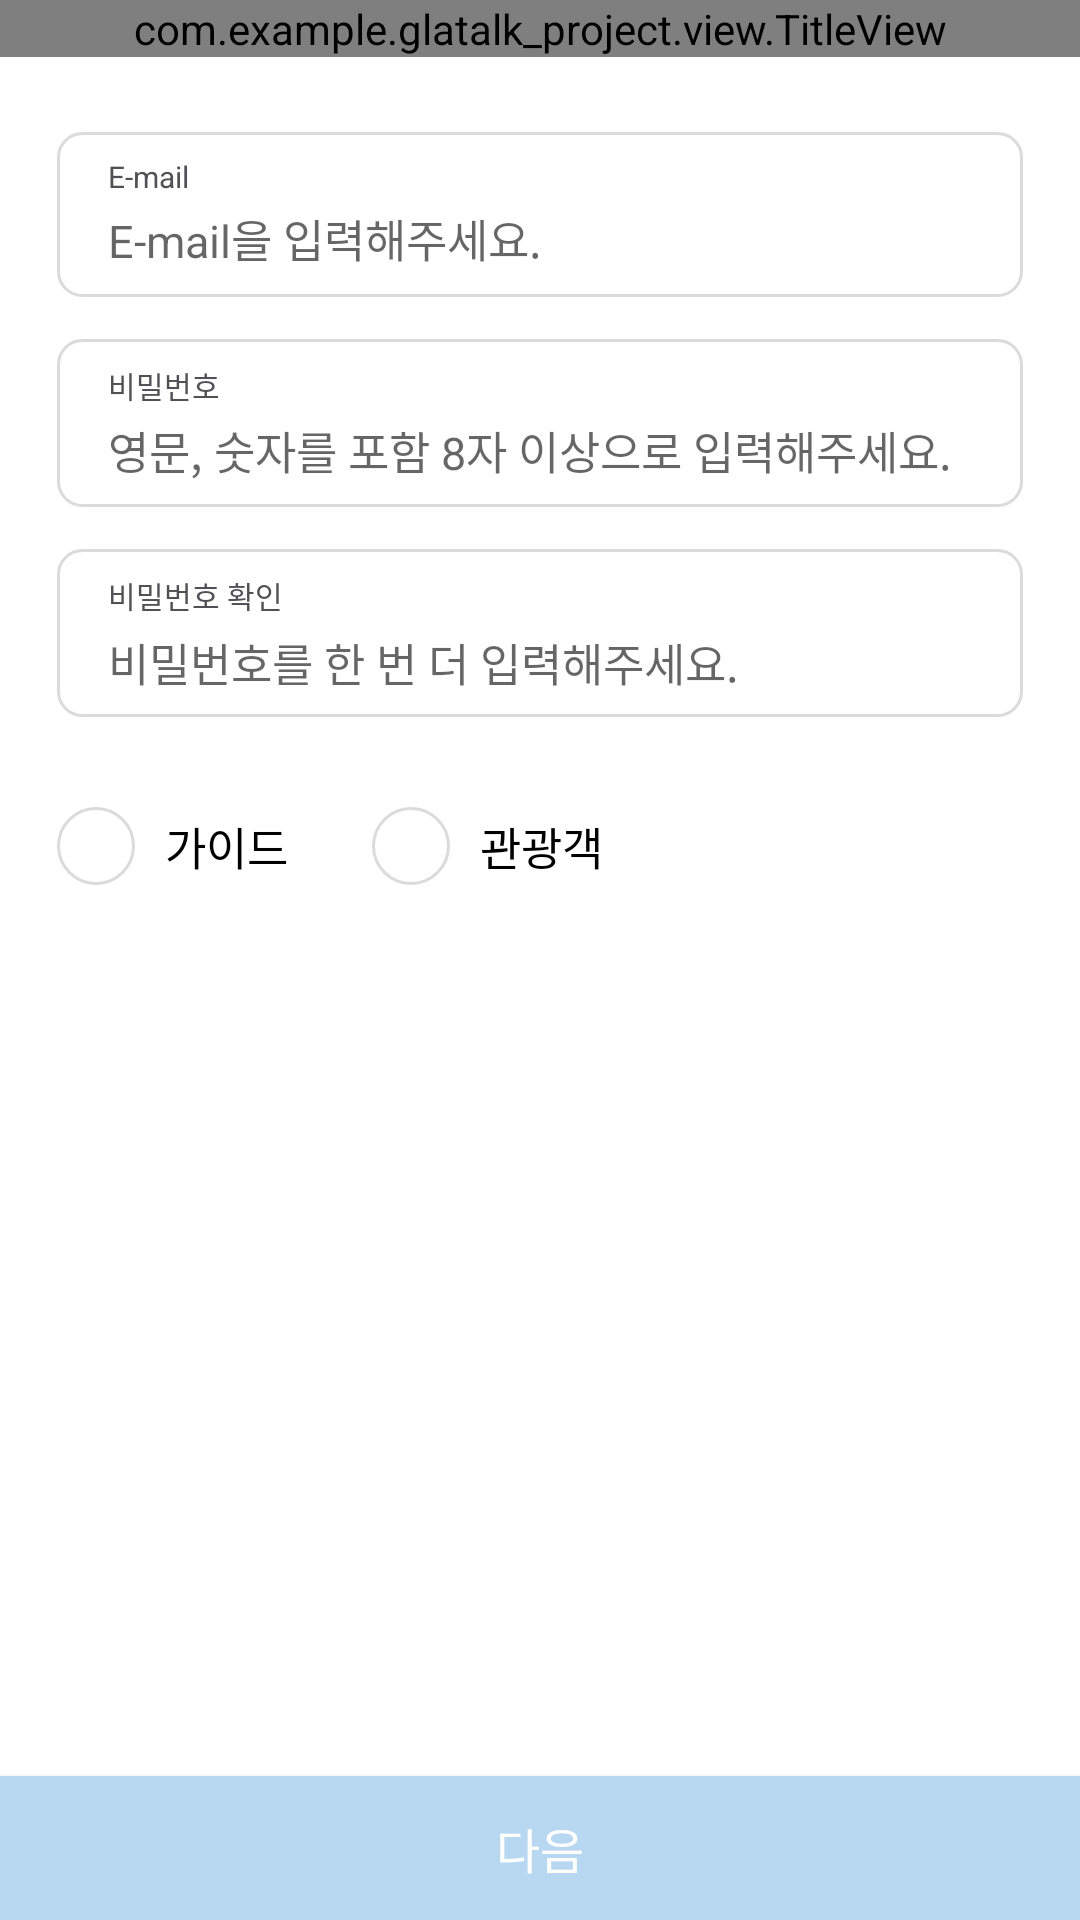

Named icons in this screenshot (1080 × 1920) and their centers, [x,y]:
radio: [96,846], [411,846]
